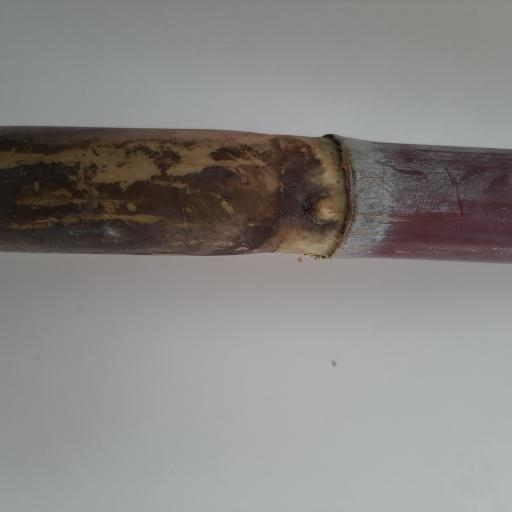Bud: (308, 196, 341, 223)
